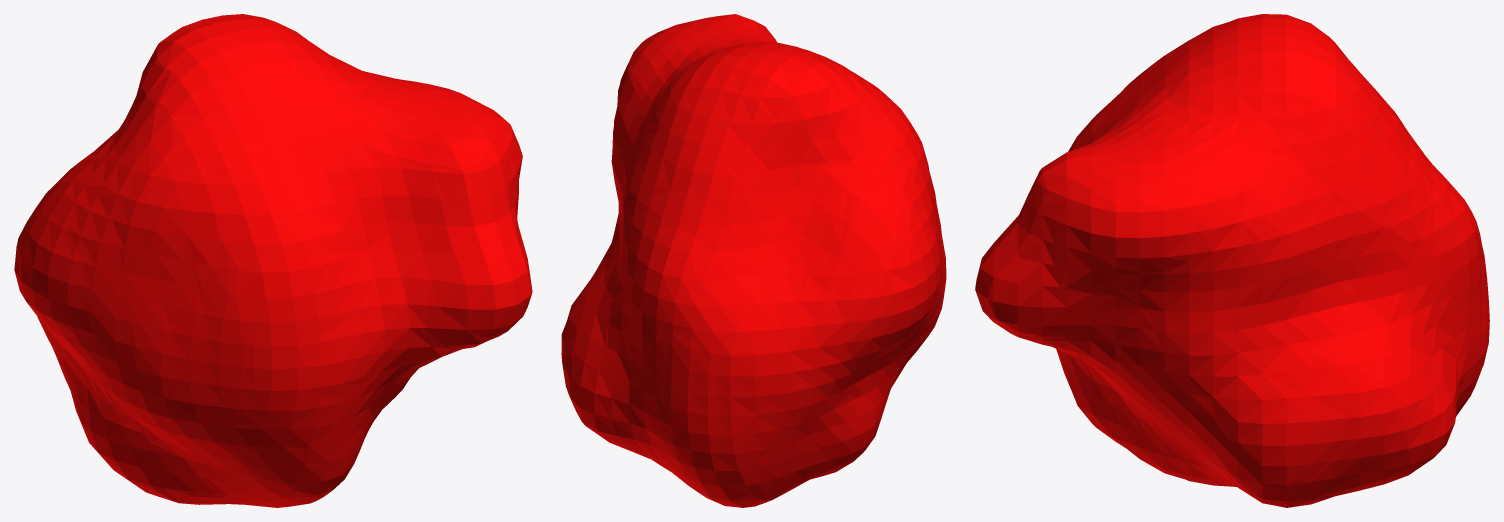
File: ypeB_coarse.dae
3 views of the same model, side by side, from view 1: azimuth 30°, elevation 25°; view 2: azimuth 150°, elevation 25°; view 3: azimuth 270°, elevation 25° (orthographic). The views are drawn at different scales.
Visible parts, largest first — view 1: ypeB; view 2: ypeB; view 3: ypeB.
Boxes of the visible parts, x1,y1,x2,y2 form: ypeB: [14, 14, 532, 507]; ypeB: [561, 14, 946, 507]; ypeB: [975, 14, 1489, 507].
Size of the model in its own units: 30.27 by 33.13 by 34.46.
